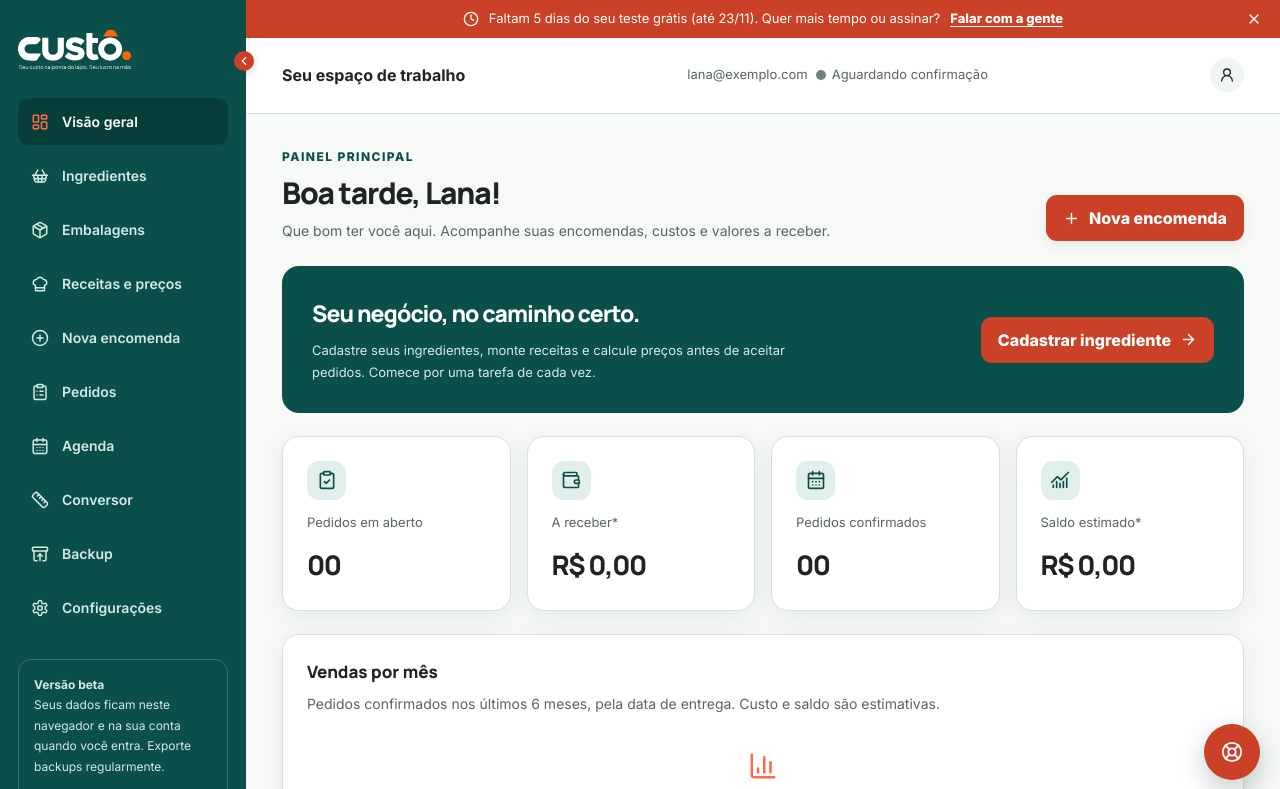
saudação e menu da conta › o X fecha a faixa até o dia seguinte (fica guardado); no último dia não há X
The width and height of the screenshot is (1280, 789).
Later steps or results of the test are not shown.
Expected: the text "Faltam 5 dias" is shown, left=489, top=10, right=687, bottom=26
Click the button named "Fechar aviso do teste até amanhã".
click(1254, 19)  # box left=1238, top=3, right=1270, bottom=35
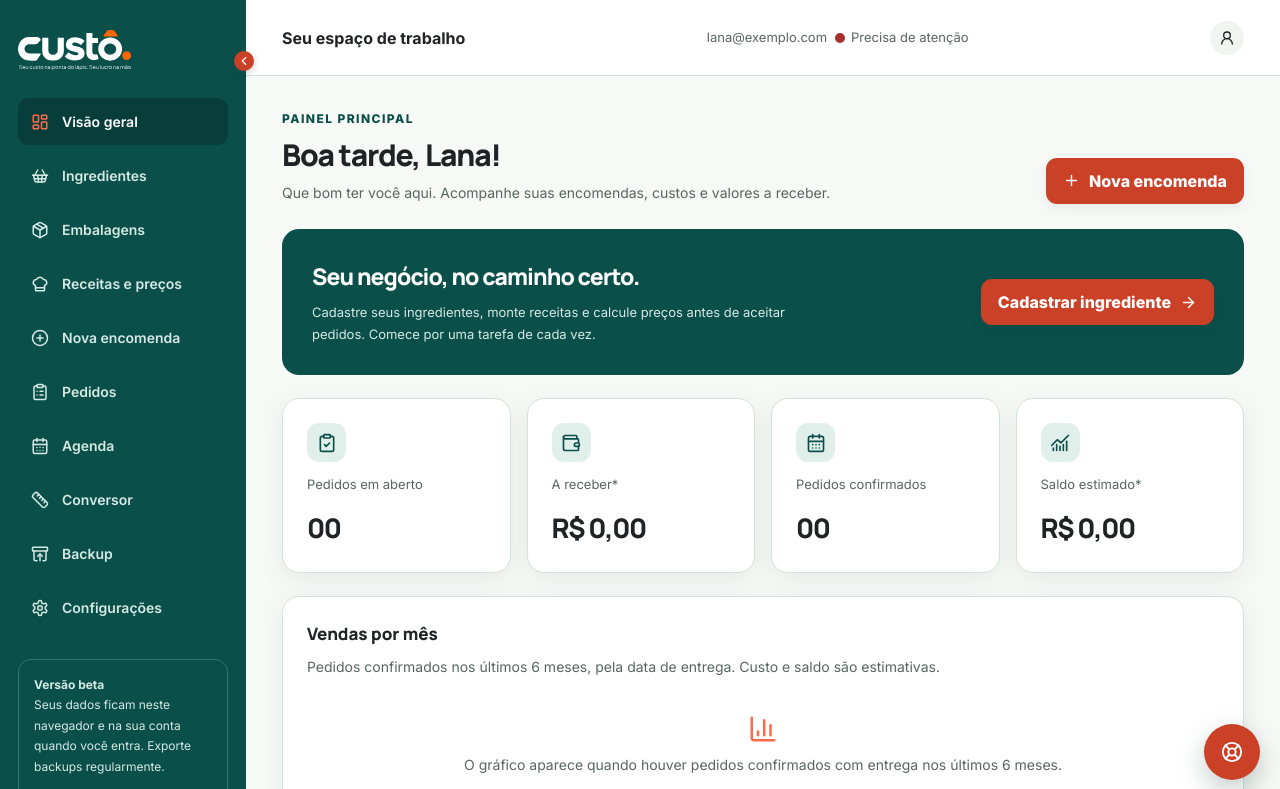
Expected: the text "Faltam 5 dias" is gone
